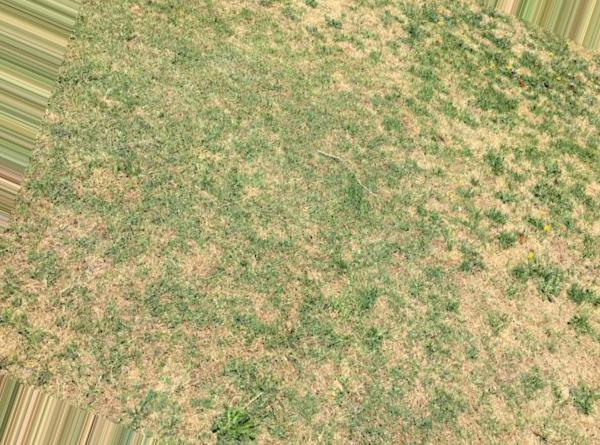patch: (79, 249, 301, 353), (136, 166, 324, 235), (138, 55, 333, 120), (370, 280, 529, 353), (174, 399, 353, 445), (333, 142, 377, 280), (403, 370, 477, 440), (435, 174, 521, 225), (485, 371, 550, 423), (389, 218, 430, 262)
